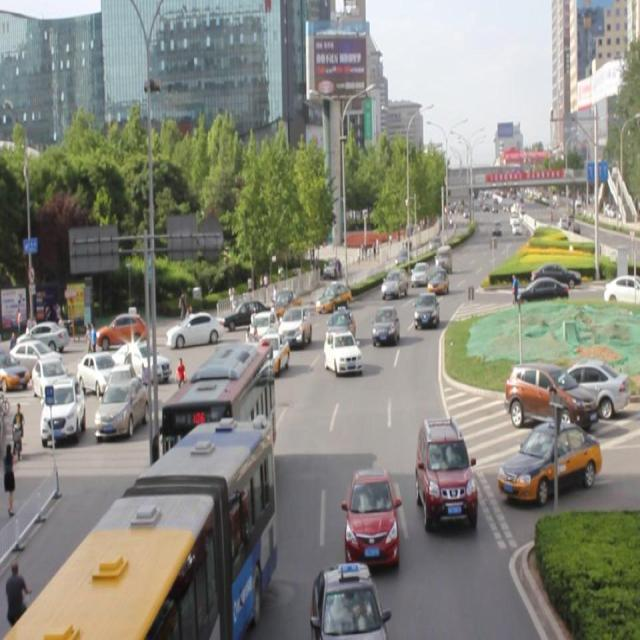car: (497, 416, 599, 498), (416, 416, 478, 526), (311, 560, 385, 640), (344, 465, 398, 565), (165, 310, 224, 348), (324, 328, 361, 374), (211, 345, 245, 395), (248, 334, 288, 376), (224, 298, 273, 330), (279, 304, 312, 350), (324, 308, 355, 346), (249, 310, 279, 348), (371, 305, 398, 346), (316, 282, 351, 312), (413, 290, 438, 328), (380, 266, 408, 298), (426, 266, 447, 295), (410, 259, 428, 284)
van: (9, 417, 277, 640), (164, 346, 276, 491)
